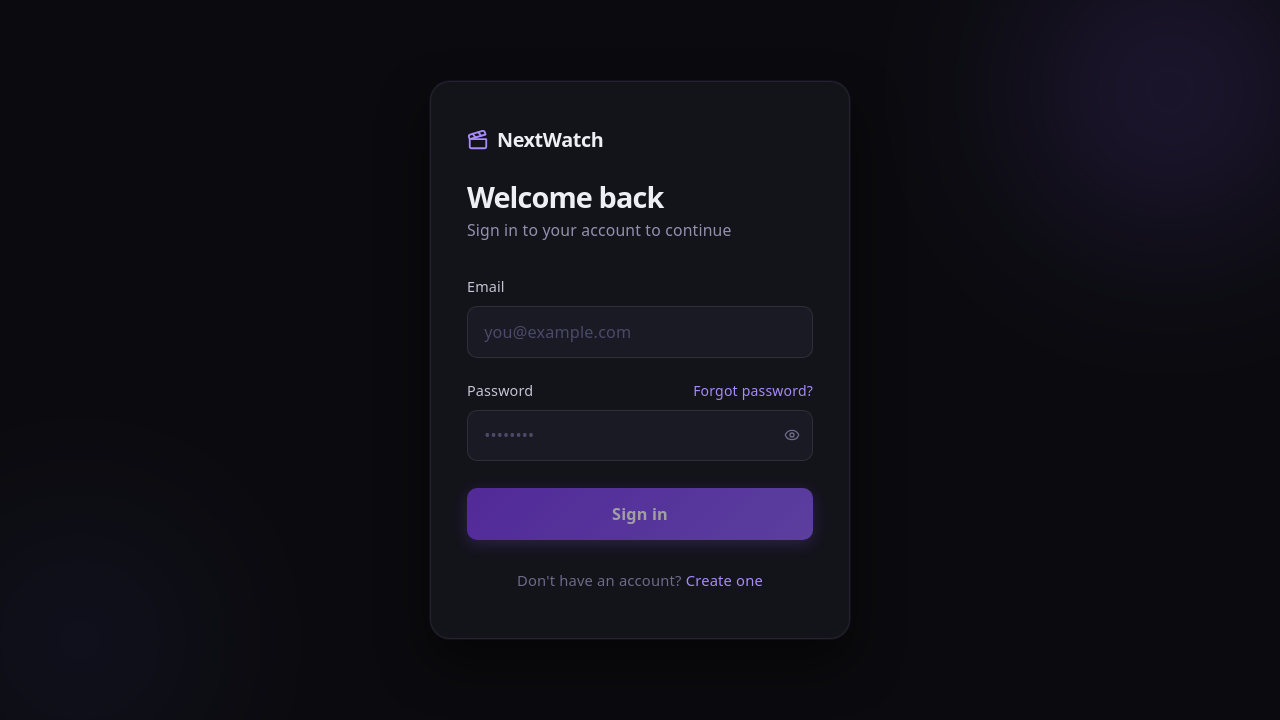
Scenario: NextWatch Login White-Box Tests › shows validation error for invalid email
Type "invalid-email" into the field labelled "Email". click: {"x": 640, "y": 332}
box: [467,306,813,358]
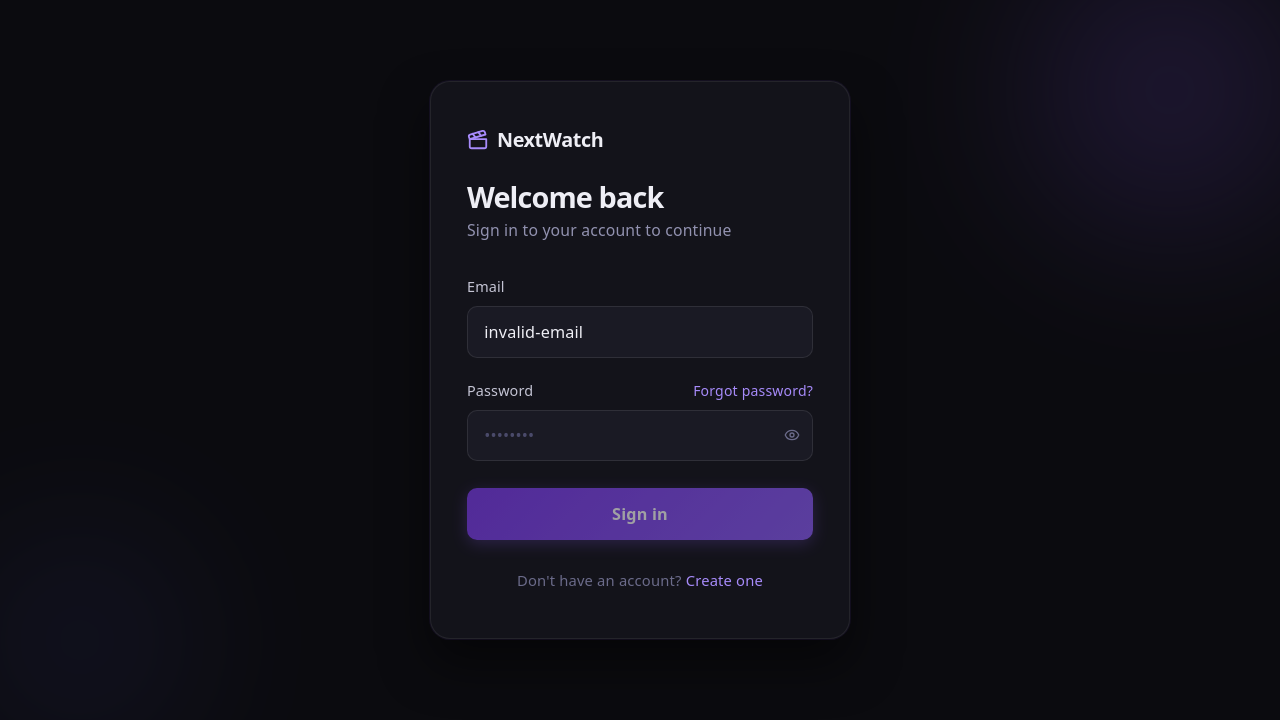
Leave the field labelled "Email", box [467,306,813,358]
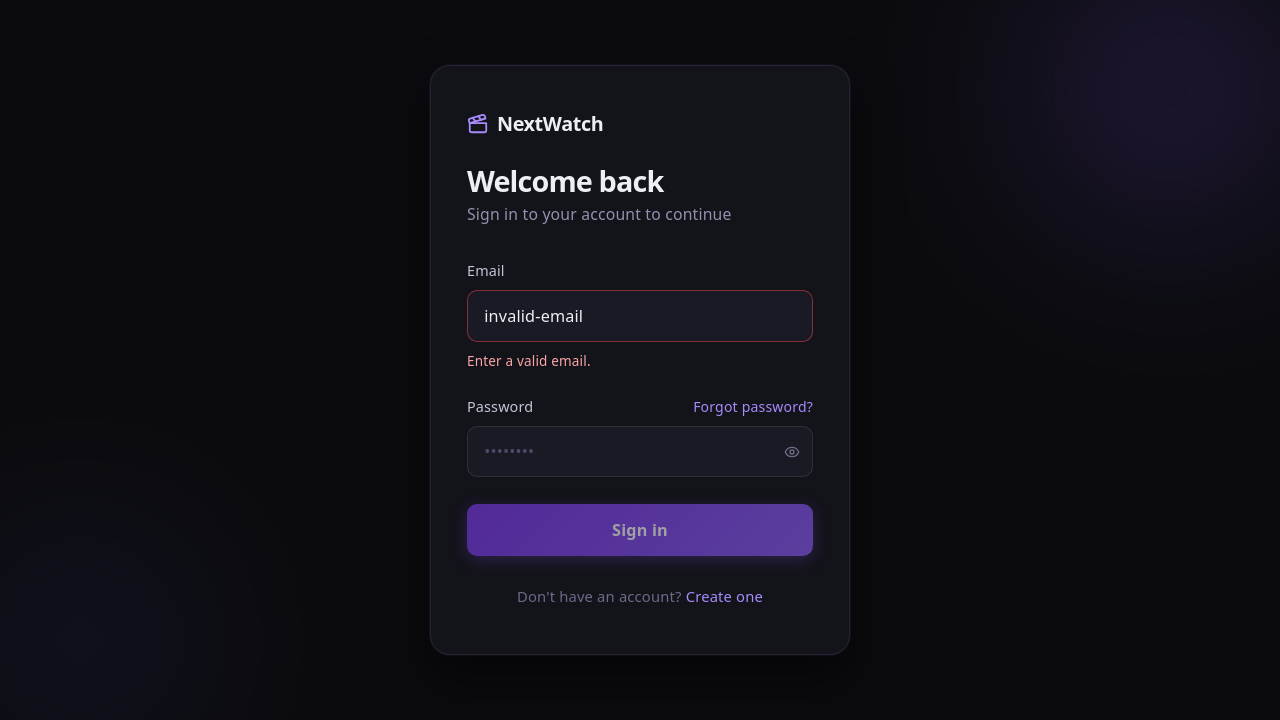
Result: the text "Enter a valid email." is shown at [467,352,591,370]
